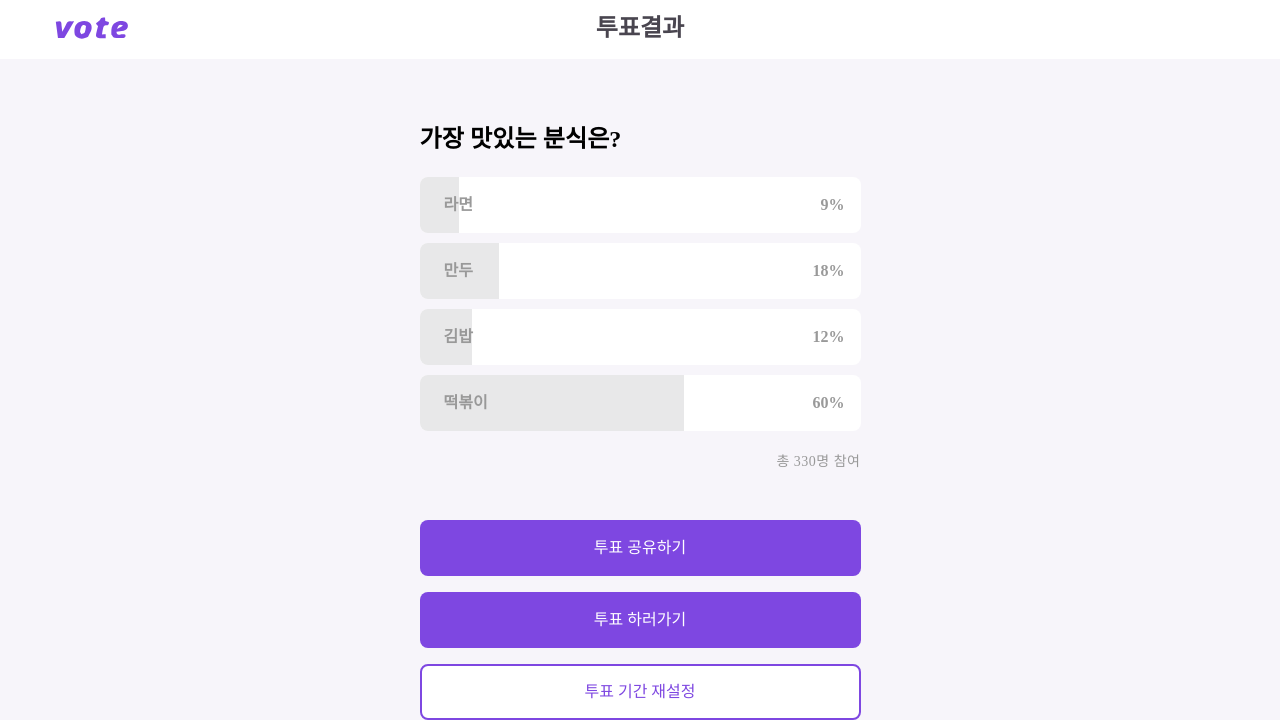
Test: 투표결과 페이지를 테스트한다. › 날짜선택을 테스트한다
(page scrolled)
재투표하기 버튼을 누른다.
Click the button with test id "revoteButton": (641, 692) left=420, top=664, right=861, bottom=719
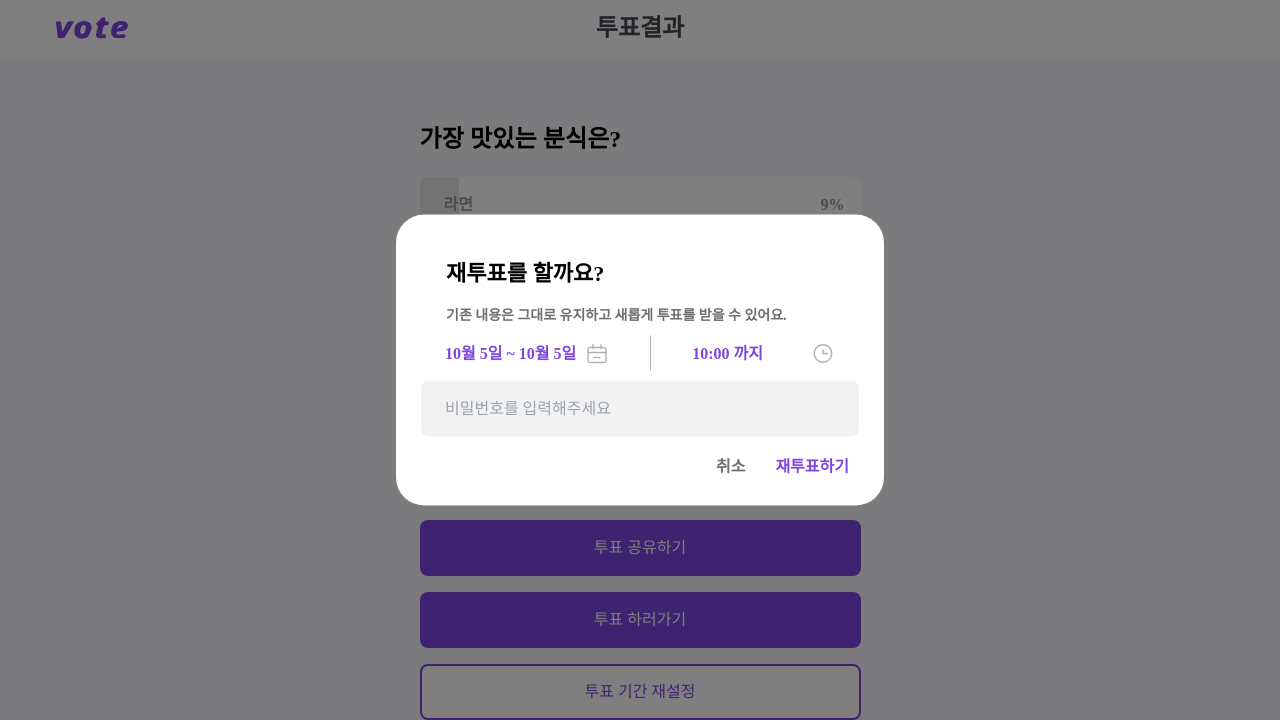
Expected: the element with test id "revoteDialog" is shown, left=421, top=240, right=859, bottom=481
날짜선택 버튼을 누른다.
Click the button with test id "dateButton": (527, 353) left=445, top=341, right=609, bottom=365
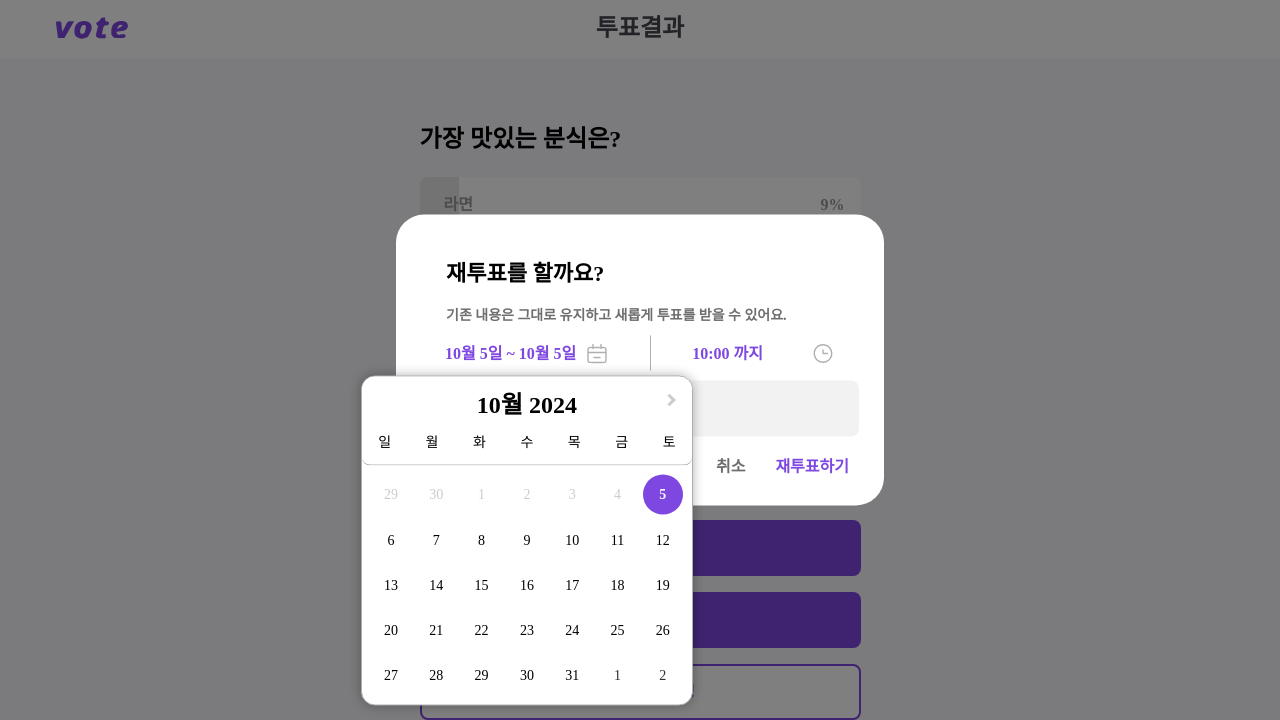
Expected: the element with class "react-datepicker-popper" is shown, left=361, top=376, right=693, bottom=707
